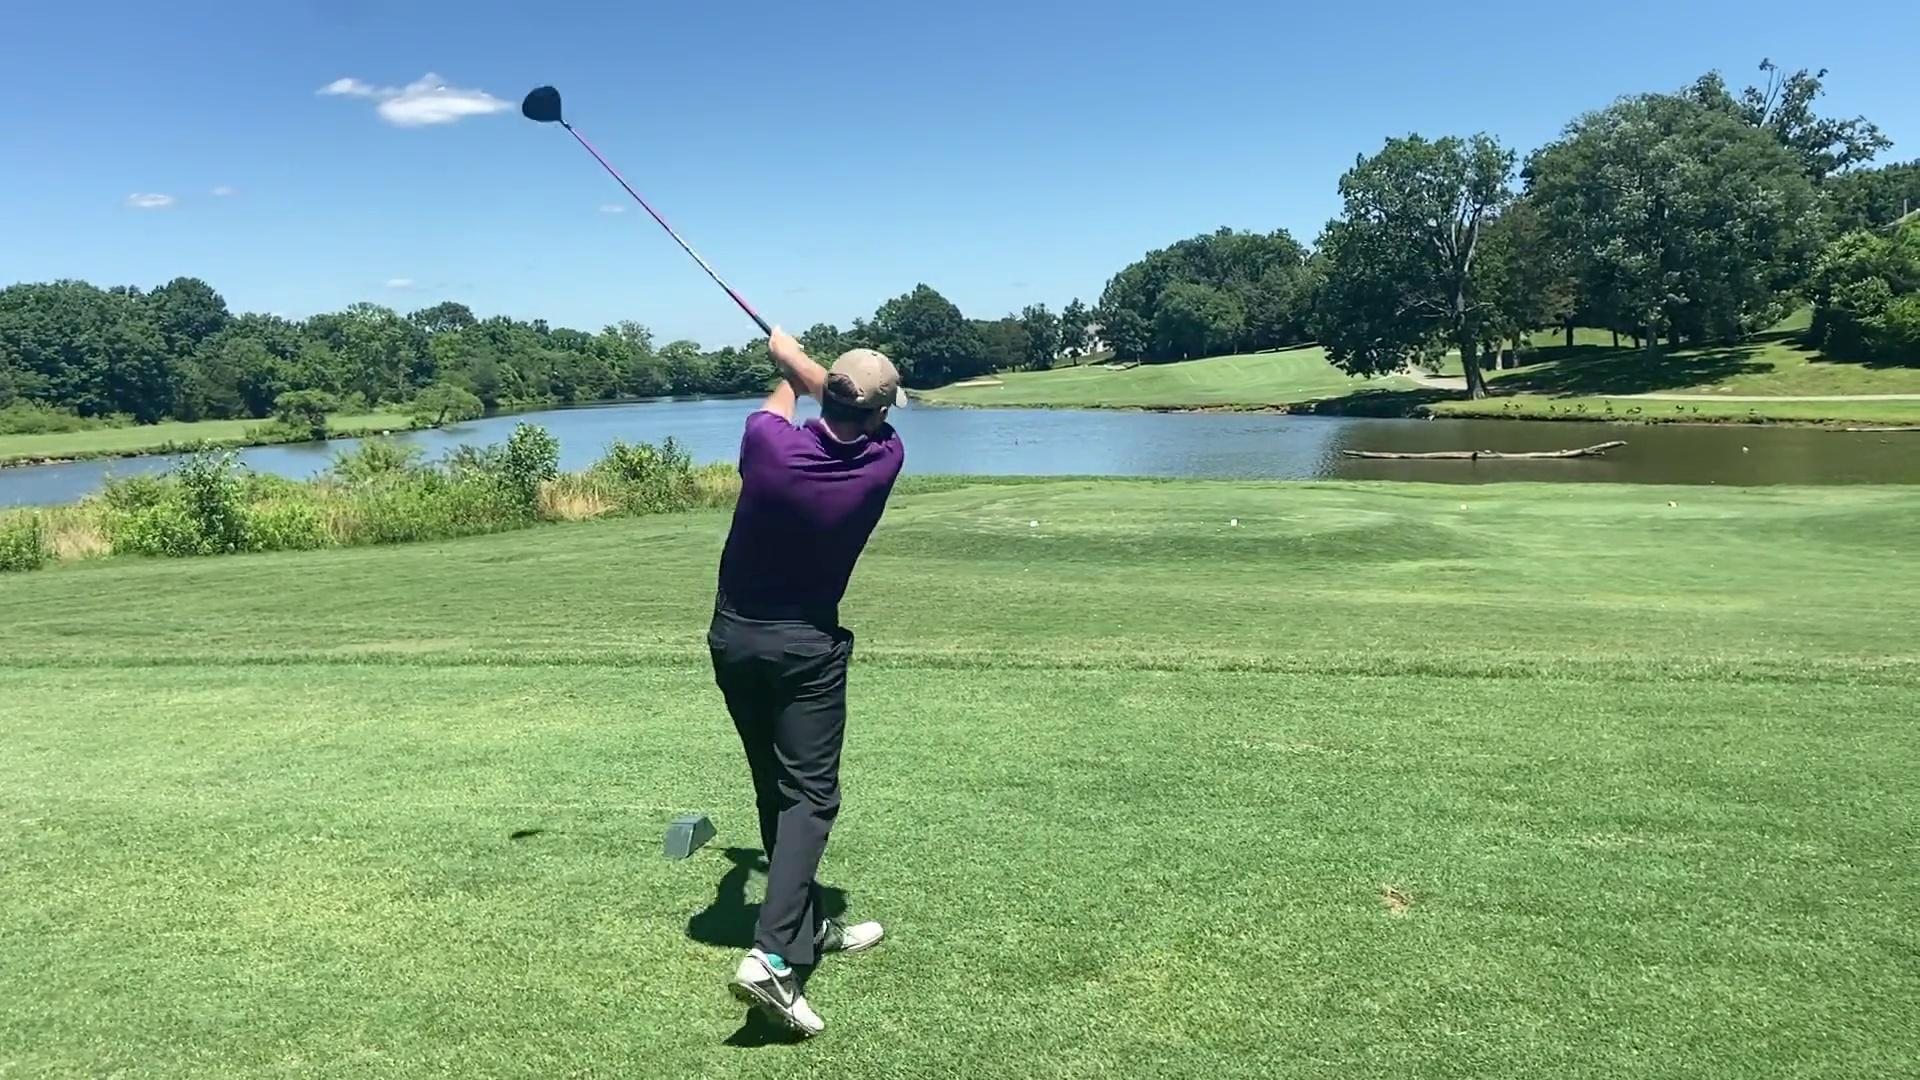ClubHead: (522, 83, 567, 127)
